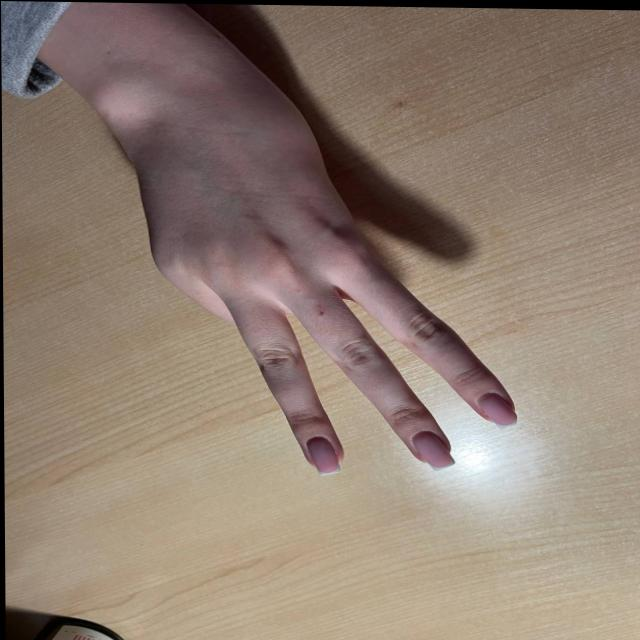m: (105, 116, 536, 476)
